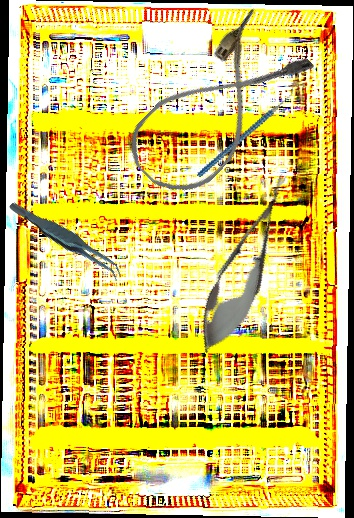Cannula: (115, 5, 319, 211)
Chopper: (178, 82, 315, 178)
Micro Scissor: (185, 164, 306, 363)
Tissue Forceps: (7, 180, 126, 300)
